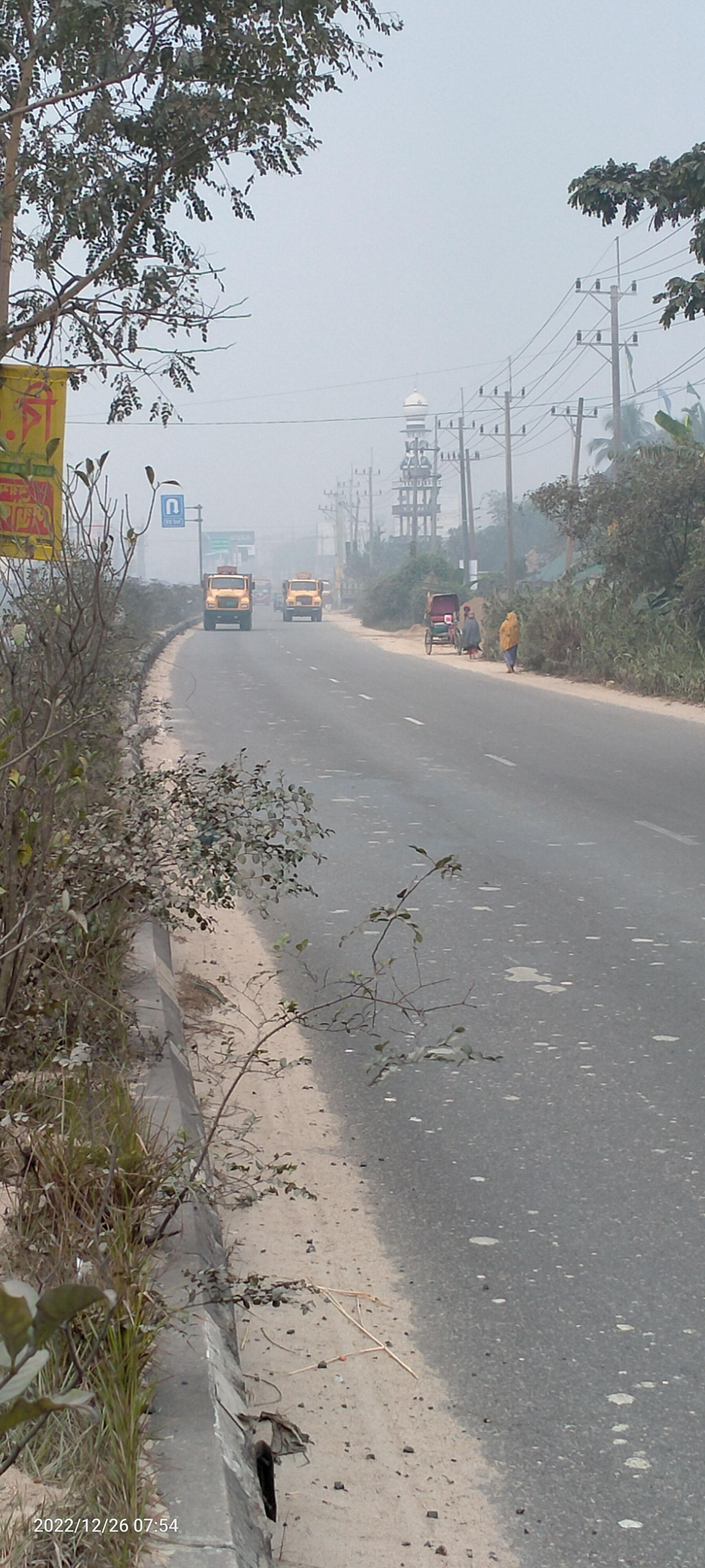Bus: (249, 573, 273, 609)
Car: (413, 582, 469, 657)
Truck: (201, 559, 257, 635), (279, 572, 329, 623)
